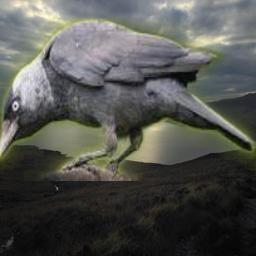Crow: (0, 18, 256, 181)
